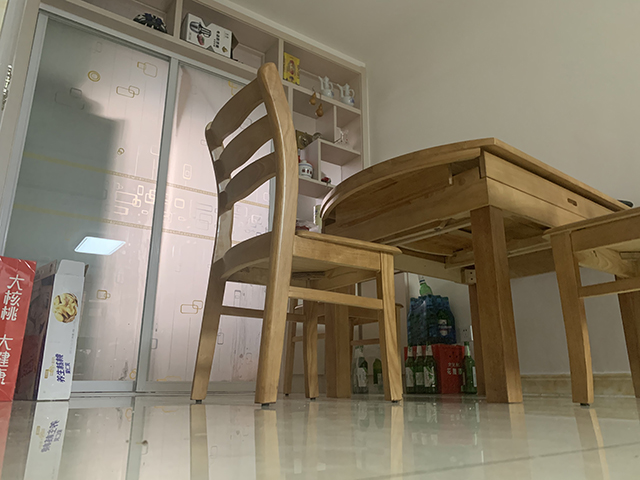stool: (188, 60, 406, 407), (540, 203, 640, 409), (283, 278, 406, 403)
table: (315, 135, 640, 405)
